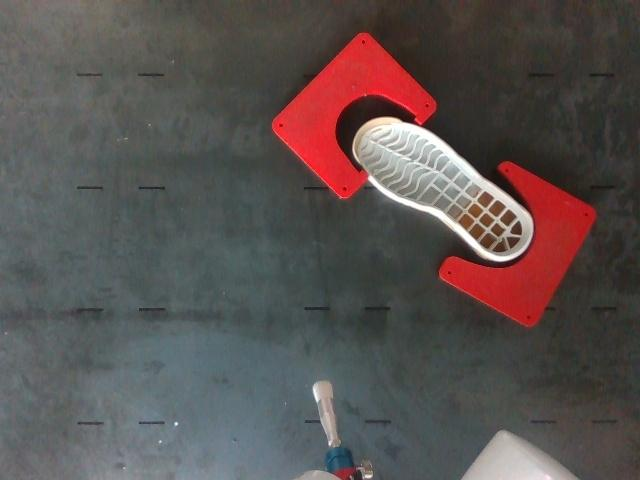shoes: (355, 118, 531, 257)
